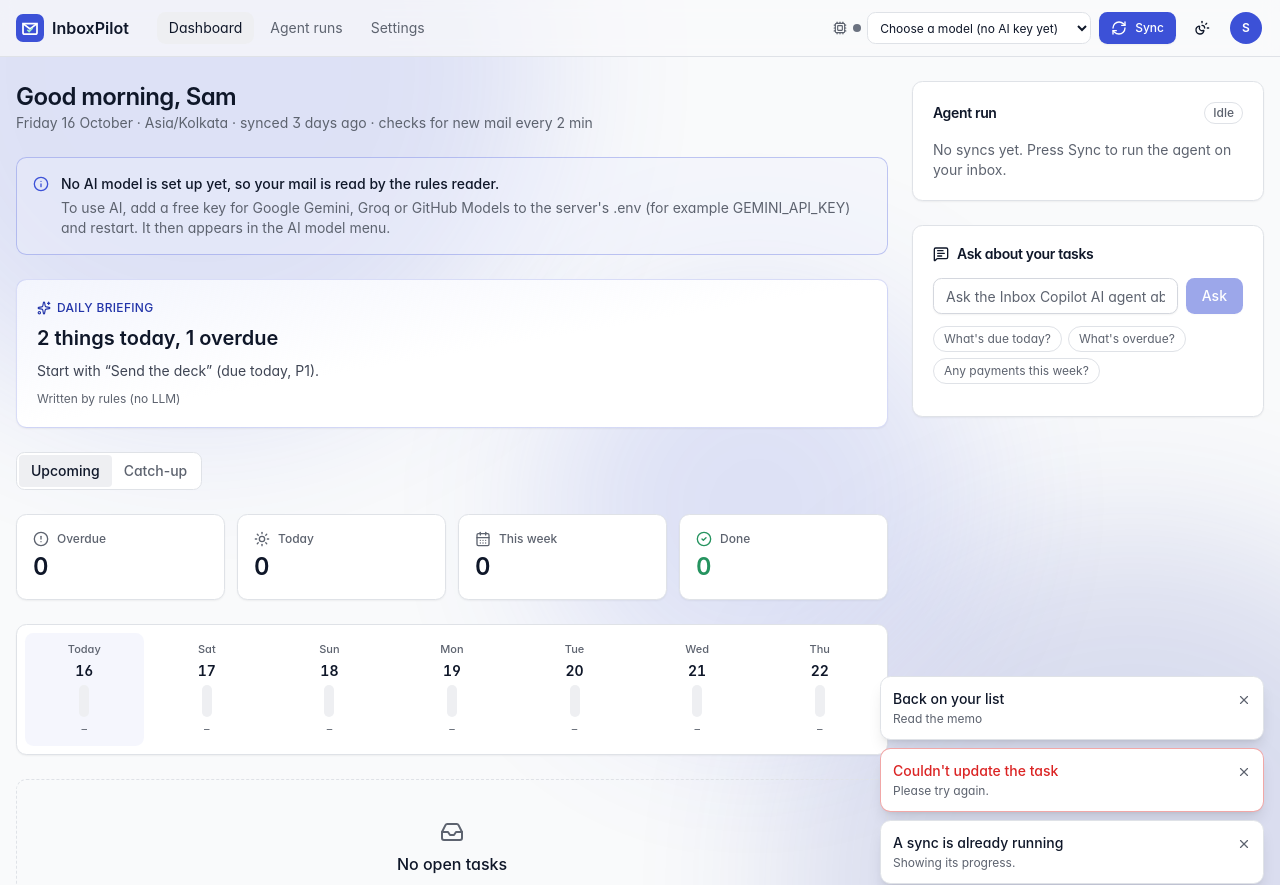
dashboard › asks a question and shows the cited tasks
Type "What do I owe Priya?" into the field named "Question" at (1055, 296), box top-left (933, 278), bottom-right (1178, 314)
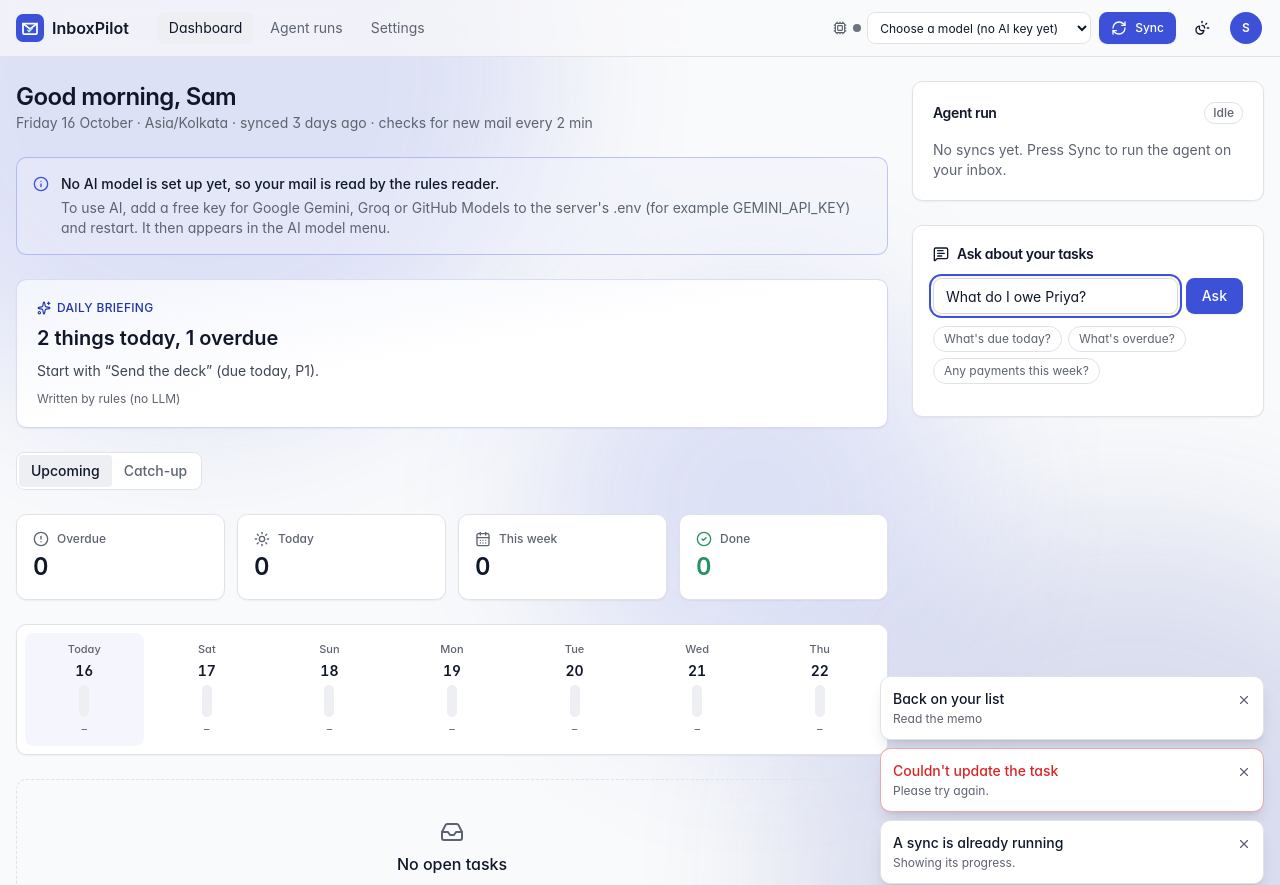
Click the button "Ask" at (1214, 296), box top-left (1186, 278), bottom-right (1243, 314)
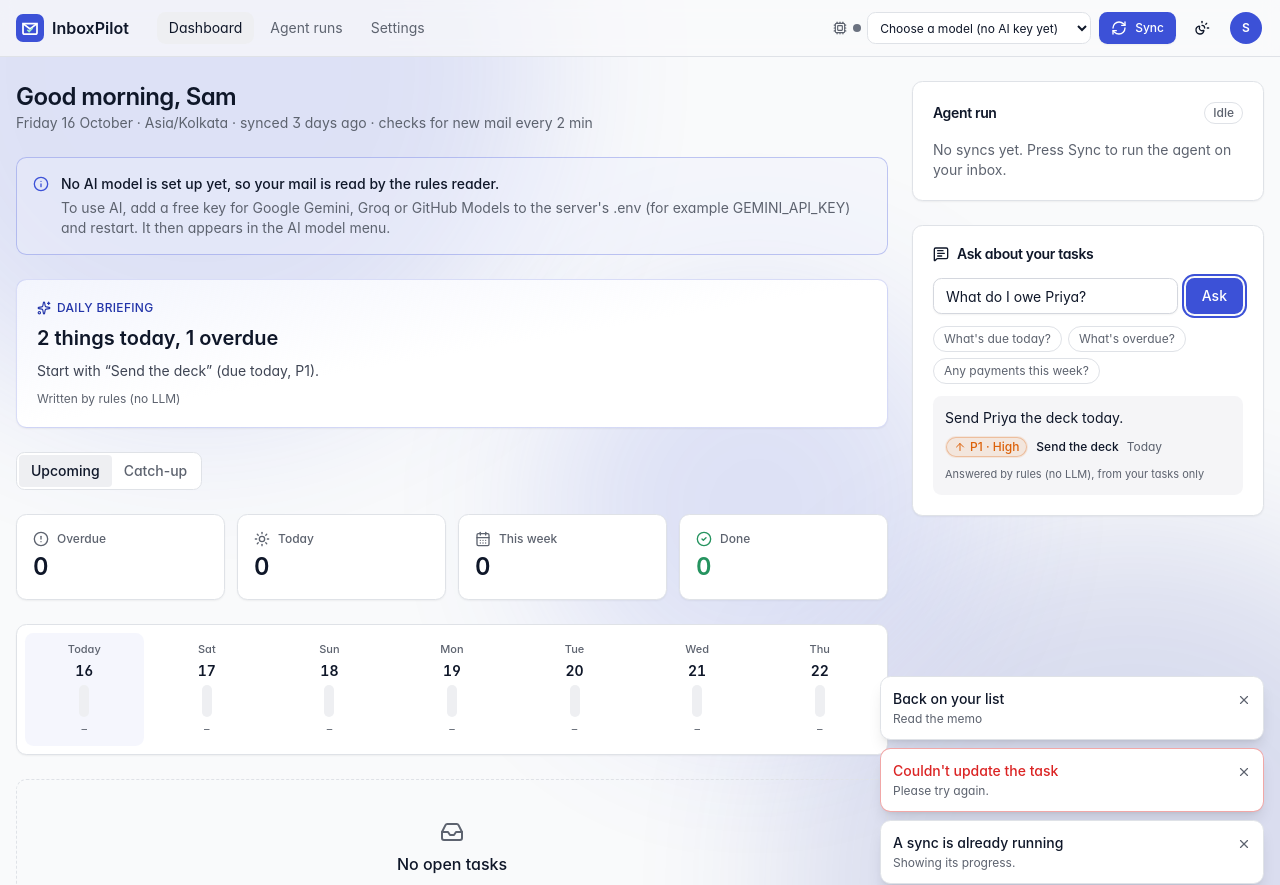
expect the text "Send Priya the deck today." is shown: met, box top-left (945, 409), bottom-right (1123, 426)
expect the text "Send the deck" is shown: met, box top-left (1036, 439), bottom-right (1119, 455)
expect the text "Answered by rules (no LLM), from your tasks only" is shown: met, box top-left (945, 466), bottom-right (1231, 482)
